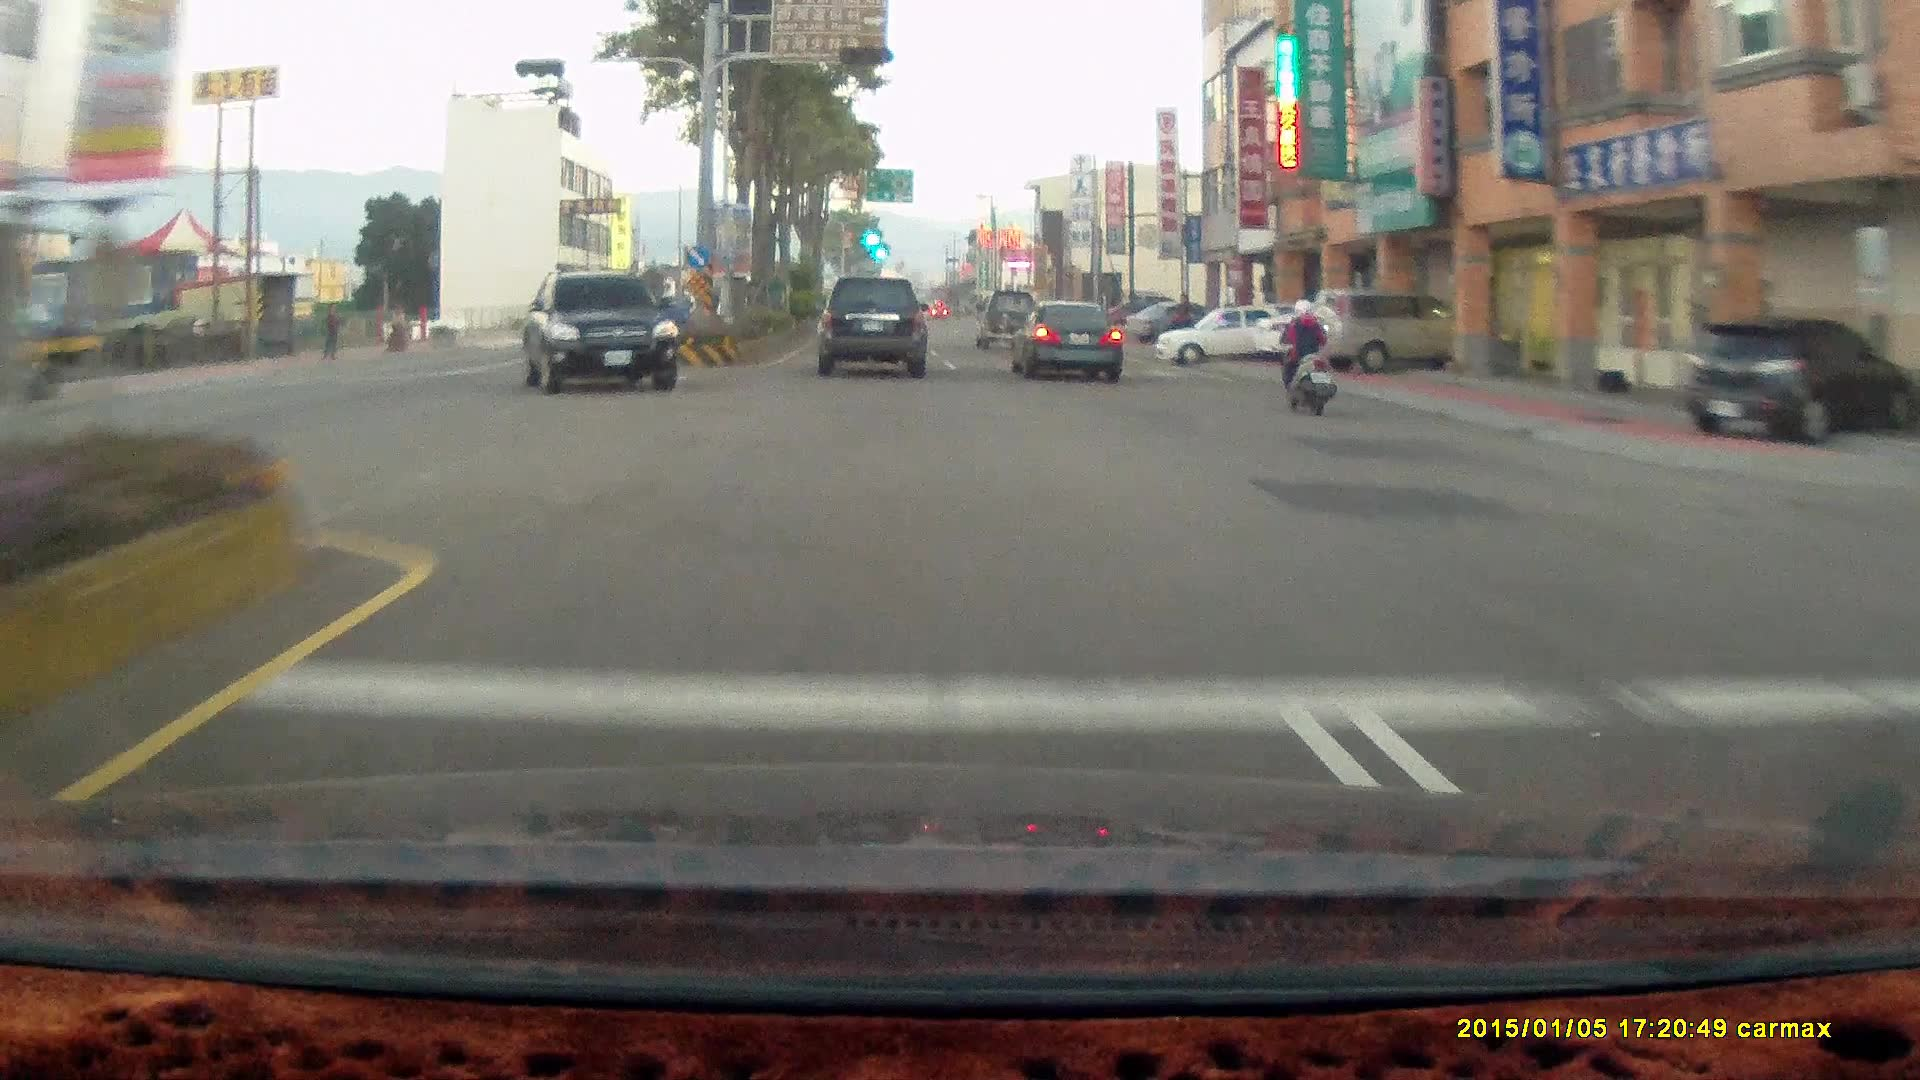pedestrian: (1171, 292, 1193, 349), (317, 307, 341, 358)
rider: (1266, 291, 1346, 418), (1273, 298, 1335, 415)
vehicle: (1683, 319, 1911, 441), (1682, 319, 1908, 442), (520, 274, 679, 397), (520, 267, 677, 390), (1309, 287, 1485, 371), (1303, 293, 1464, 377), (1256, 297, 1419, 368), (823, 274, 933, 378), (815, 276, 926, 379), (1008, 301, 1131, 384), (1159, 304, 1306, 373), (1007, 298, 1121, 381), (1152, 302, 1299, 363), (973, 292, 1041, 350), (1126, 301, 1218, 343)
